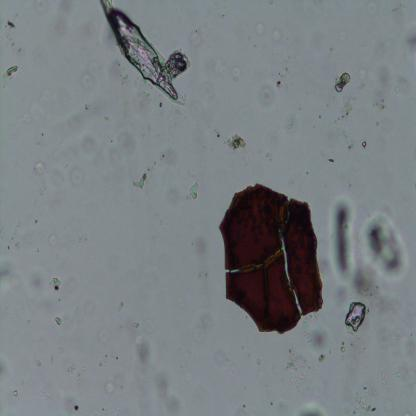Background material: (360, 212, 412, 282), (328, 200, 360, 286), (122, 316, 155, 363), (280, 346, 314, 389), (152, 368, 181, 416), (299, 317, 332, 349), (349, 268, 379, 300), (343, 298, 370, 332), (349, 385, 378, 416), (108, 133, 135, 164), (375, 289, 403, 318), (193, 305, 216, 340), (24, 271, 48, 296), (292, 401, 329, 416), (102, 373, 127, 395), (332, 66, 350, 96), (80, 133, 100, 160), (334, 101, 355, 126), (0, 64, 21, 89), (0, 14, 15, 48), (62, 392, 83, 416), (256, 82, 274, 110), (8, 115, 28, 140), (0, 262, 17, 291), (223, 130, 249, 148), (164, 186, 184, 209), (191, 235, 207, 262), (135, 80, 151, 105), (403, 332, 416, 360), (66, 167, 84, 185), (96, 324, 112, 344), (56, 0, 74, 16), (46, 230, 65, 245), (100, 404, 122, 416), (370, 96, 388, 110), (188, 180, 200, 201), (0, 356, 10, 380), (132, 174, 148, 189), (32, 161, 48, 176), (82, 68, 92, 91), (252, 20, 264, 35), (52, 276, 63, 292), (232, 65, 242, 82), (315, 350, 327, 364), (339, 338, 346, 361), (36, 391, 50, 402), (13, 219, 22, 236), (98, 354, 108, 368), (392, 3, 407, 12), (116, 300, 127, 312), (156, 148, 166, 161), (407, 34, 416, 48), (271, 33, 282, 44), (30, 359, 41, 369), (66, 363, 77, 373), (346, 142, 357, 152), (276, 400, 285, 412), (76, 233, 88, 242), (39, 179, 45, 197), (197, 24, 207, 34), (361, 138, 370, 148), (402, 409, 414, 416), (112, 351, 120, 361), (54, 316, 62, 326), (215, 127, 222, 138), (361, 46, 372, 53), (120, 74, 128, 83), (84, 103, 92, 112), (279, 72, 289, 79), (55, 347, 65, 354), (265, 153, 273, 161), (274, 80, 282, 88), (216, 13, 225, 20), (48, 354, 54, 364), (14, 240, 19, 252), (288, 119, 294, 129), (392, 86, 399, 94), (382, 371, 386, 385), (395, 370, 402, 378), (396, 331, 401, 342), (256, 356, 262, 364), (240, 402, 248, 408), (348, 183, 354, 191), (80, 365, 86, 373), (328, 158, 335, 164), (328, 46, 334, 53), (404, 53, 410, 60), (174, 110, 182, 115), (104, 114, 109, 122), (12, 390, 18, 396), (285, 65, 289, 72), (375, 119, 379, 126), (35, 247, 39, 252), (286, 20, 289, 26), (318, 115, 322, 119), (268, 1, 272, 5), (306, 171, 309, 176), (35, 219, 38, 224), (247, 36, 250, 40), (18, 48, 22, 51)
Cellulose filter fibre: (99, 0, 193, 110)
Fragment: (217, 182, 329, 336)
